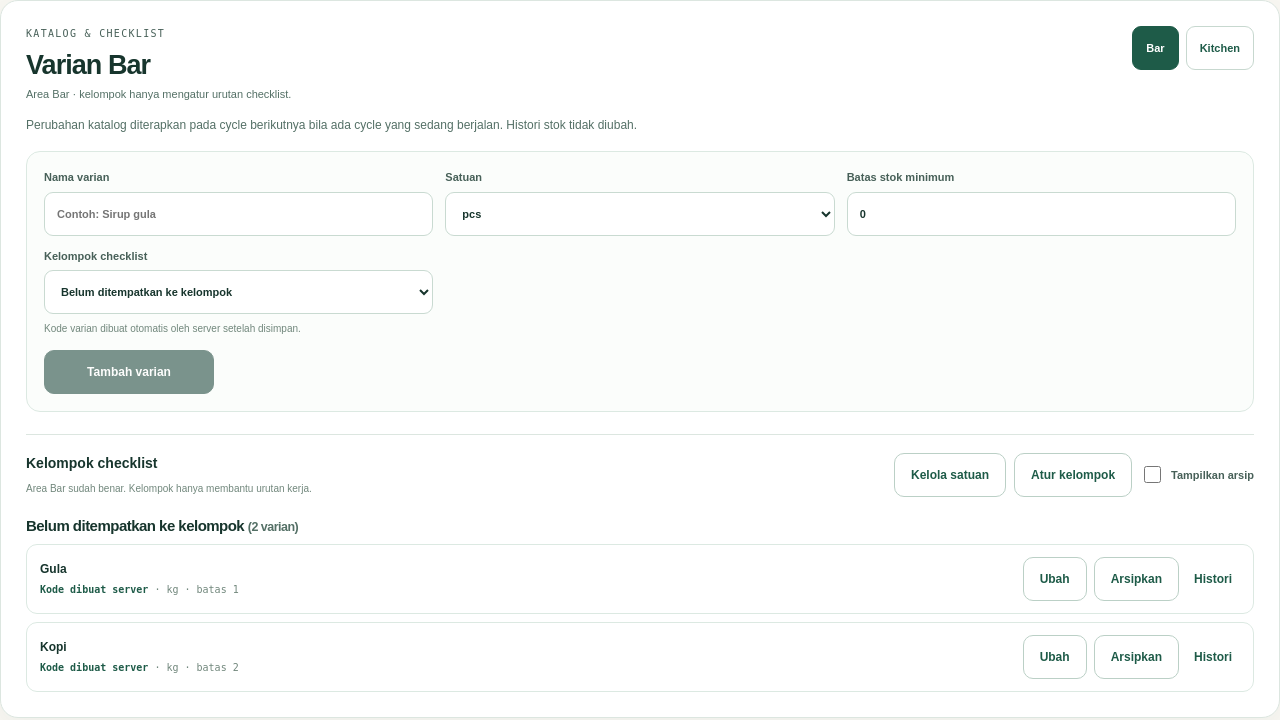
Scenario: CatalogManager › shows append-only field changes in the item history surface
Click the button "Histori" in the row of "Gula" at (1213, 579), box left=1186, top=559, right=1240, bottom=599
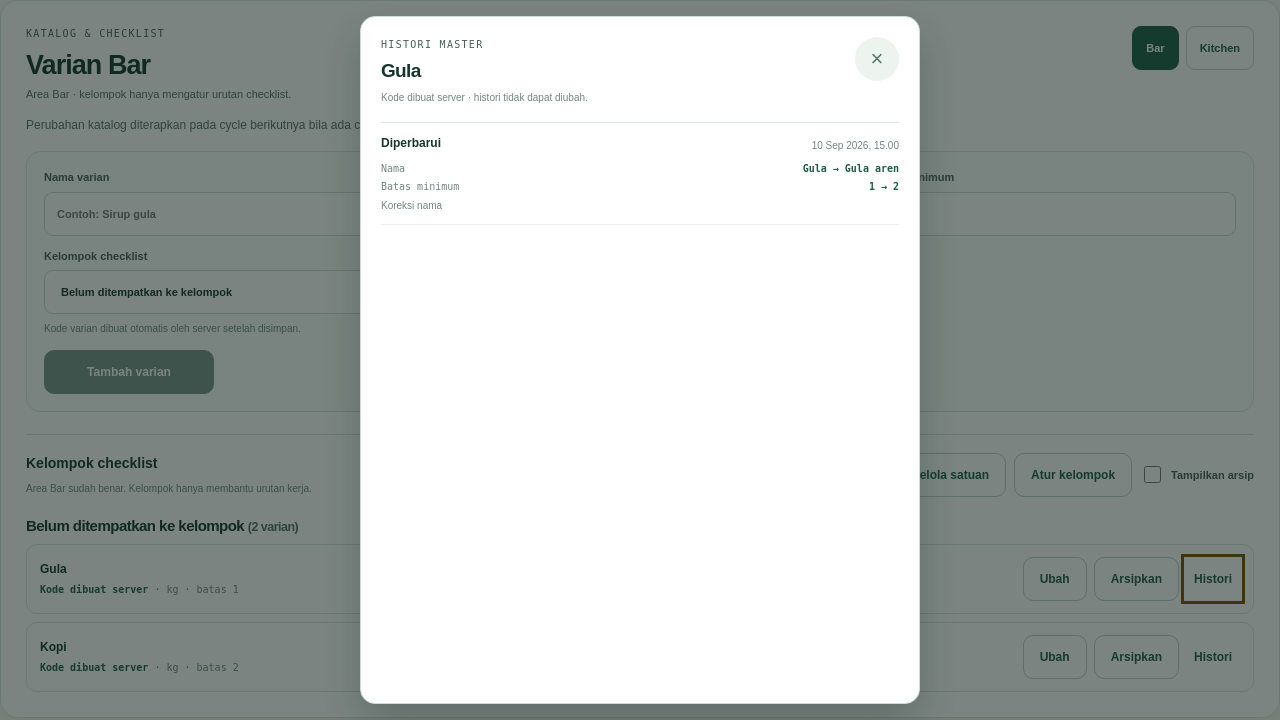
Expected: the heading "Gula" is shown, left=381, top=60, right=421, bottom=81
Expected: the text "Gula → Gula aren" is shown, left=803, top=161, right=899, bottom=176
Expected: the text "Koreksi nama" is shown, left=381, top=200, right=442, bottom=211
